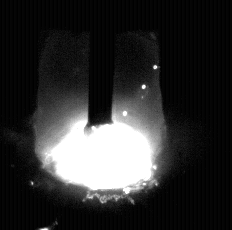arame: (89, 0, 114, 127)
poca: (34, 0, 167, 230)
